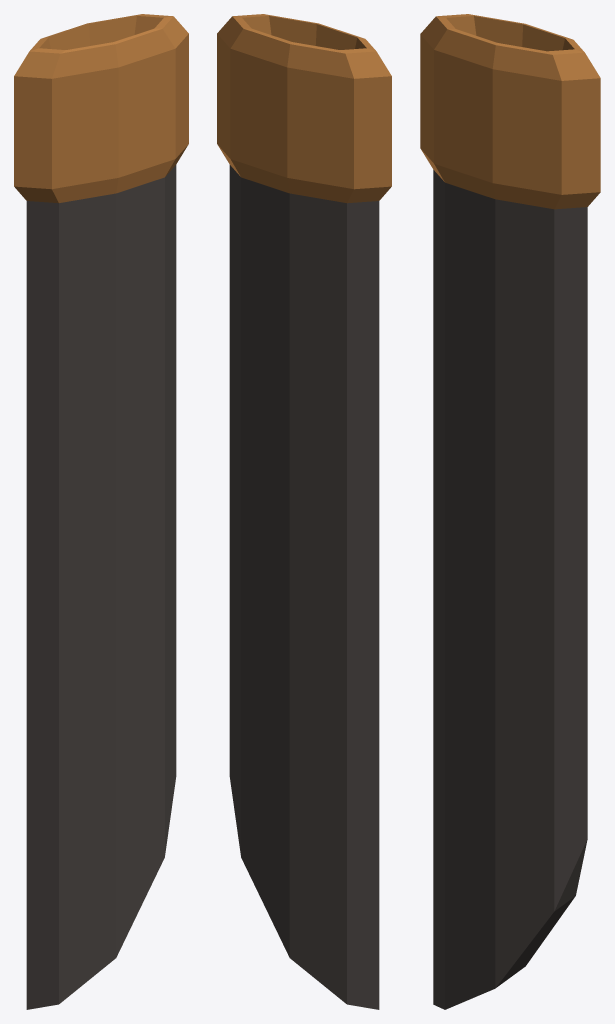
The model's file is SM_pwe_china_dagger_scabbard_02.fbx.
3 renders of one model, left to right at view 1: azimuth 30°, elevation 25°; view 2: azimuth 150°, elevation 25°; view 3: azimuth 330°, elevation 25°, orthographic. The views are drawn at different scales.
Visible parts, largest first — view 1: SM_pwe_china_dagger_scabbard_02; view 2: SM_pwe_china_dagger_scabbard_02; view 3: SM_pwe_china_dagger_scabbard_02.
Part boxes in pixels (x1=…): SM_pwe_china_dagger_scabbard_02: x1=14, y1=14, x2=188, y2=1009; SM_pwe_china_dagger_scabbard_02: x1=217, y1=14, x2=391, y2=1009; SM_pwe_china_dagger_scabbard_02: x1=420, y1=14, x2=600, y2=1009.
Bounding box in the file's own units: 4.86 × 25.45 × 1.66.
